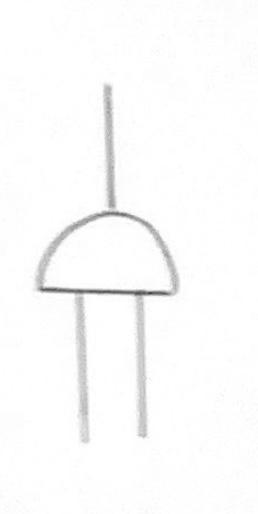AND: (21, 196, 216, 321)
